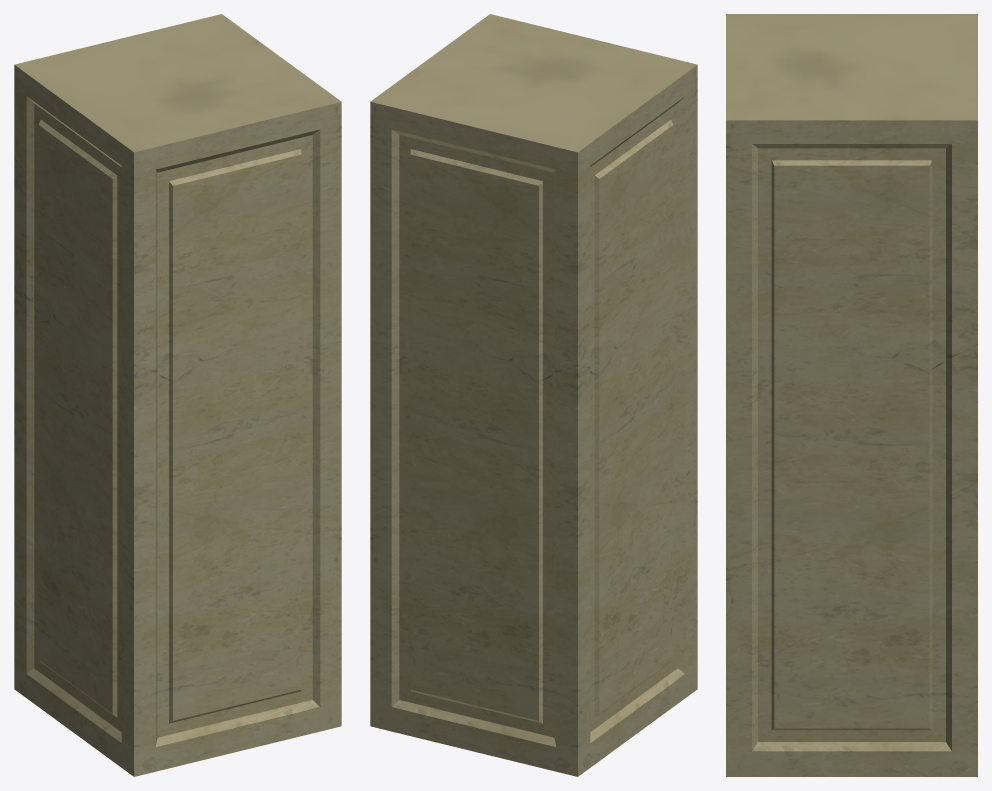
File: Marble_Column_Large_Center.gltf
The picture shows the model from 3 angles, left to right: view 1: azimuth 30°, elevation 25°; view 2: azimuth 150°, elevation 25°; view 3: azimuth 270°, elevation 25°; orthographic projection. The views are drawn at different scales.
Parts seen in each view (by area): view 1: Marble_Column_Large_Center; view 2: Marble_Column_Large_Center; view 3: Marble_Column_Large_Center.
Part boxes in pixels (x1,y1,x2,y2): Marble_Column_Large_Center: (14,14,341,776); Marble_Column_Large_Center: (370,14,697,776); Marble_Column_Large_Center: (726,14,977,776).
Bounding box in the file's own units: 1.39 × 4 × 1.39.
Materials: 1 (1 with a texture image).
